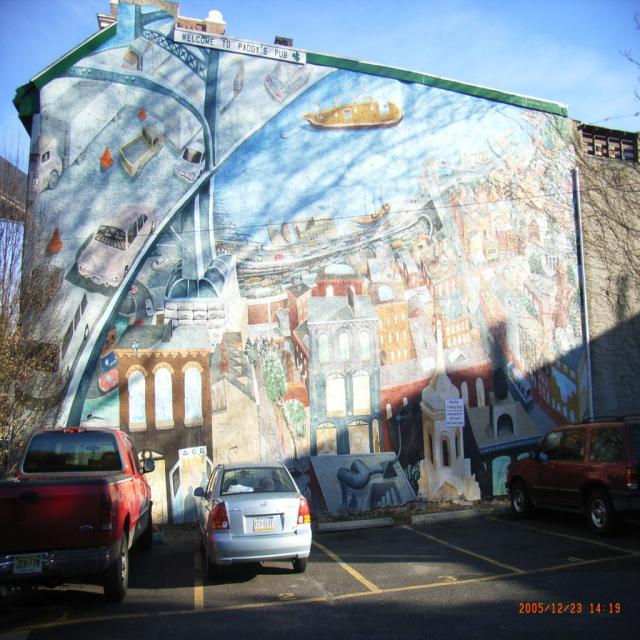car: (195, 457, 311, 573)
